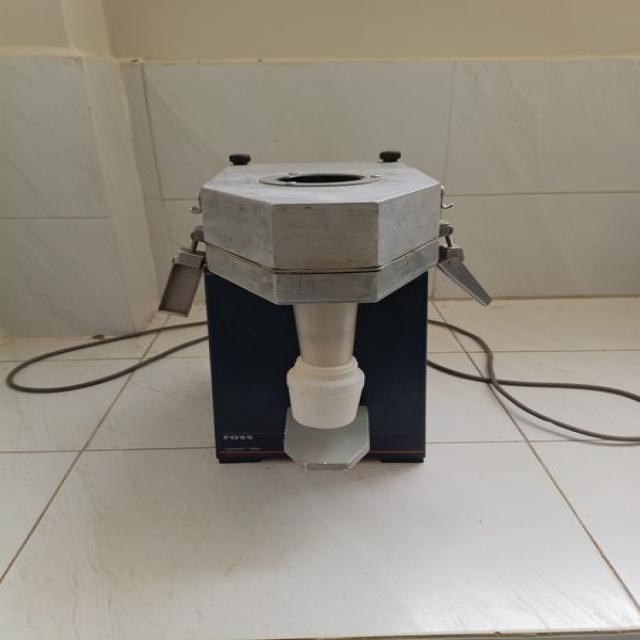Molino Ciclonico de Muestras Bromatologicas: (159, 151, 489, 469)
